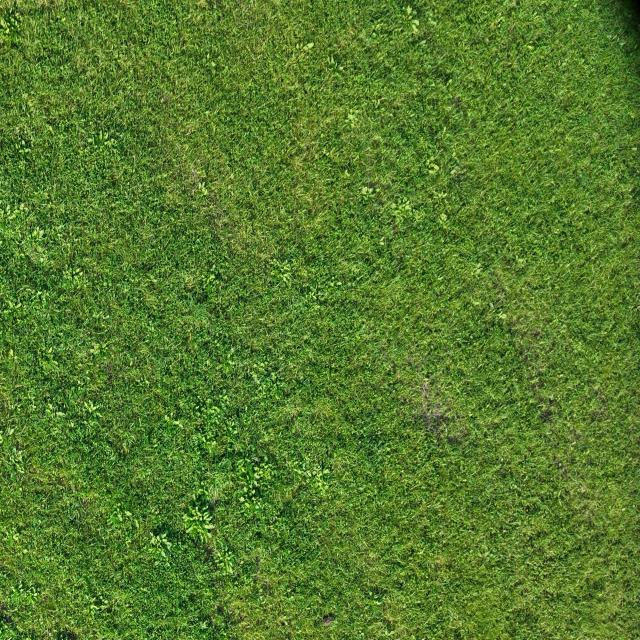rumex: (68, 91, 160, 223), (586, 163, 640, 241), (2, 207, 54, 278), (364, 2, 426, 56), (244, 357, 286, 416), (194, 457, 232, 515), (234, 456, 271, 514), (296, 454, 336, 504), (36, 342, 66, 393), (192, 414, 225, 459), (362, 588, 392, 630), (88, 125, 119, 163), (12, 121, 40, 161), (267, 258, 298, 294), (60, 264, 90, 300), (183, 511, 213, 544), (388, 197, 416, 228), (0, 6, 23, 43), (306, 277, 335, 304), (502, 15, 525, 48), (443, 165, 468, 194), (7, 444, 27, 479), (402, 4, 422, 39), (314, 68, 335, 101), (83, 592, 105, 622), (105, 502, 128, 529), (252, 462, 274, 490), (197, 272, 218, 297), (242, 460, 259, 490), (445, 95, 466, 119), (325, 52, 342, 76), (431, 188, 449, 210), (203, 51, 221, 73), (419, 380, 433, 407), (90, 342, 108, 361), (240, 496, 258, 514), (348, 108, 361, 130), (156, 533, 172, 549), (359, 185, 375, 200), (218, 362, 233, 378), (185, 522, 200, 537), (222, 556, 234, 574), (426, 159, 440, 173), (207, 405, 221, 418), (182, 511, 194, 526), (516, 256, 528, 270), (83, 401, 95, 414), (393, 208, 405, 221), (170, 420, 183, 432), (251, 373, 263, 386), (401, 200, 412, 213), (330, 151, 343, 162), (220, 394, 231, 406), (26, 590, 37, 602), (374, 593, 385, 605), (202, 510, 212, 523), (10, 14, 19, 28), (56, 224, 66, 236), (610, 338, 622, 348), (1, 21, 10, 34), (303, 83, 312, 96), (16, 449, 24, 463), (295, 41, 306, 51), (54, 411, 66, 420), (441, 426, 448, 441), (32, 227, 40, 240), (328, 56, 336, 69), (374, 21, 384, 31), (302, 43, 312, 53), (19, 145, 28, 156), (496, 16, 505, 27), (439, 212, 448, 223), (450, 167, 459, 178), (428, 17, 437, 28), (364, 35, 375, 44), (160, 548, 168, 560), (164, 416, 173, 426), (342, 169, 351, 179), (200, 186, 209, 196), (471, 300, 481, 309), (45, 405, 53, 416), (525, 44, 536, 52), (14, 300, 22, 311), (474, 265, 482, 276), (405, 5, 413, 16), (372, 99, 379, 111), (121, 442, 128, 454), (488, 300, 495, 312), (123, 509, 132, 518), (197, 180, 205, 190), (562, 58, 570, 68), (46, 124, 54, 134), (29, 586, 37, 596), (322, 468, 330, 478), (12, 532, 20, 542), (8, 347, 14, 360), (328, 279, 336, 288), (497, 311, 505, 320), (98, 315, 110, 321), (609, 34, 618, 42), (228, 172, 235, 182), (447, 78, 454, 88), (352, 154, 359, 164), (98, 130, 105, 140), (359, 29, 366, 39), (335, 280, 343, 288), (379, 237, 386, 246), (583, 205, 590, 214), (104, 131, 110, 141), (566, 23, 572, 32), (370, 31, 377, 38), (436, 276, 444, 282), (18, 582, 24, 590), (635, 145, 640, 154), (308, 42, 314, 49), (206, 52, 210, 61)
